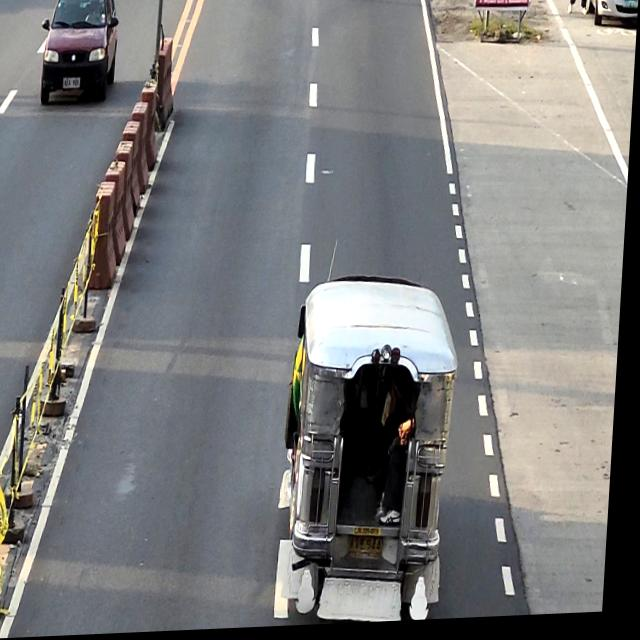Car: (39, 0, 120, 105)
Jeep: (278, 273, 467, 629)
License-Plate: (355, 539, 390, 564), (64, 79, 81, 89)
